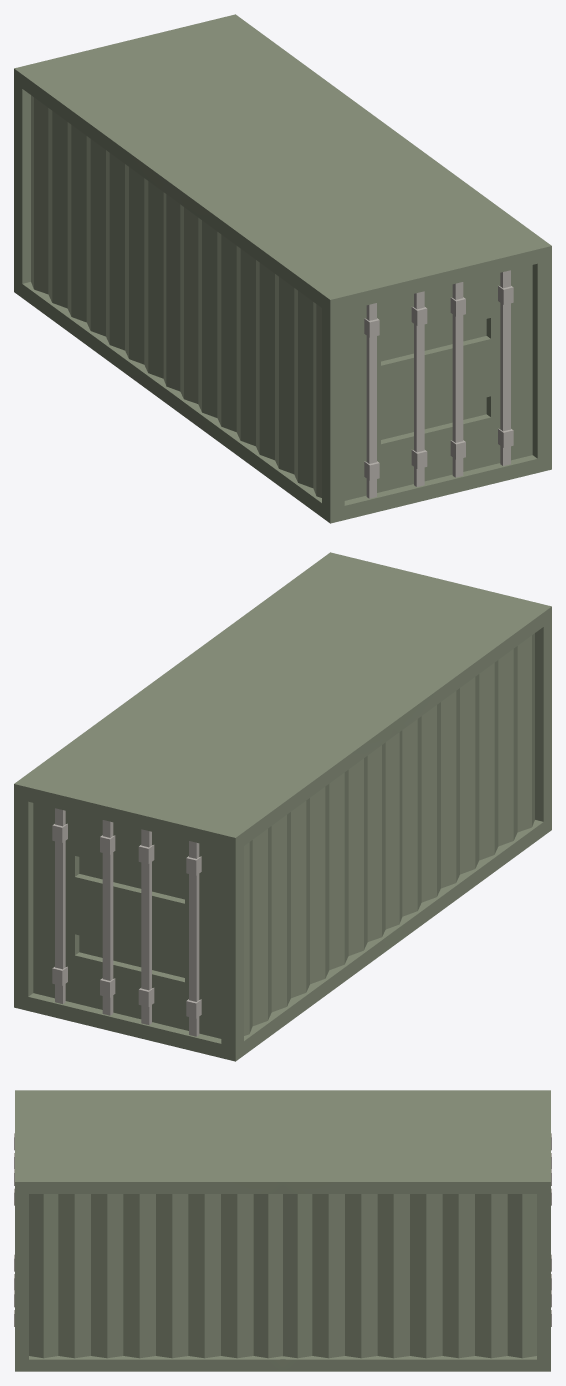
The model's file is sm_shippingContainer.fbx.
3 views of the same model, one above another, from view 1: azimuth 30°, elevation 25°; view 2: azimuth 150°, elevation 25°; view 3: azimuth 270°, elevation 25° (orthographic). The views are drawn at different scales.
Parts seen in each view (by area): view 1: sm_shippingContainer; view 2: sm_shippingContainer; view 3: sm_shippingContainer.
Part boxes in pixels (x1,y1,x2,y2): sm_shippingContainer: [14, 14, 551, 523]; sm_shippingContainer: [14, 552, 551, 1061]; sm_shippingContainer: [14, 1090, 551, 1371].
Size of the model in its own units: 300 by 289 by 744.
